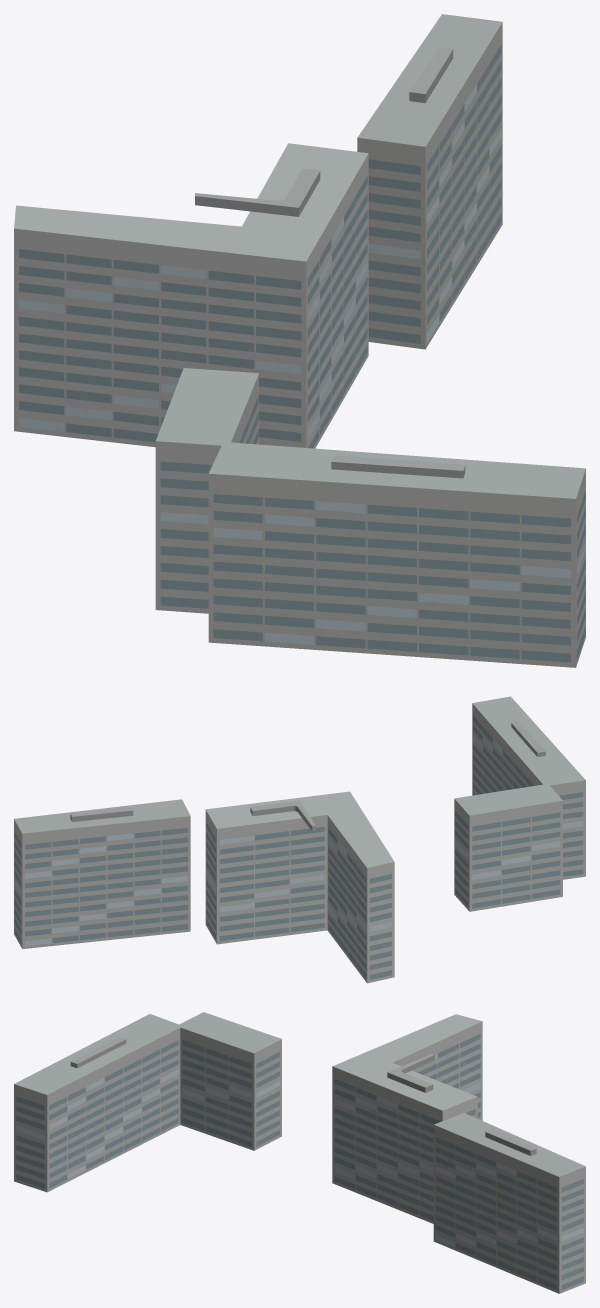
The model's file is apt-a13984603.glb.
The picture shows the model from 3 angles, top to bottom: view 1: azimuth 30°, elevation 25°; view 2: azimuth 150°, elevation 25°; view 3: azimuth 270°, elevation 25°; orthographic projection. The views are drawn at different scales.
Visible parts, largest first — view 1: apt-a13984603; view 2: apt-a13984603; view 3: apt-a13984603.
Boxes of the visible parts, left/top/right/bottom form: apt-a13984603: left=14, top=14, right=585, bottom=667; apt-a13984603: left=14, top=696, right=585, bottom=983; apt-a13984603: left=14, top=1012, right=585, bottom=1293.
Bounding box in the file's own units: 124 × 38.25 × 162.
